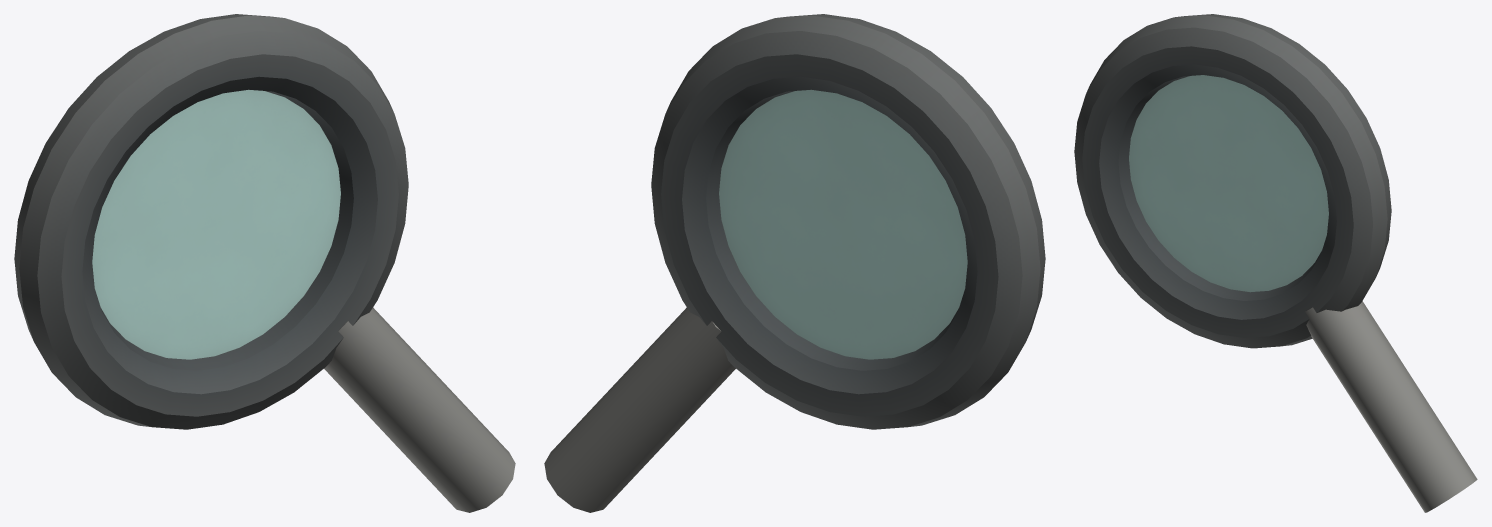
The model's file is Magnifier.fbx.
3 renders of one model, left to right at view 1: azimuth 30°, elevation 25°; view 2: azimuth 150°, elevation 25°; view 3: azimuth 330°, elevation 25°, orthographic. The views are drawn at different scales.
Parts seen in each view (by area): view 1: Magnifier; view 2: Magnifier; view 3: Magnifier.
Boxes of the visible parts, x1,y1,x2,y2 form: Magnifier: (14, 14, 515, 512); Magnifier: (544, 14, 1045, 512); Magnifier: (1074, 14, 1477, 512).
Size of the model in its own units: 86.69 by 92.75 by 12.
